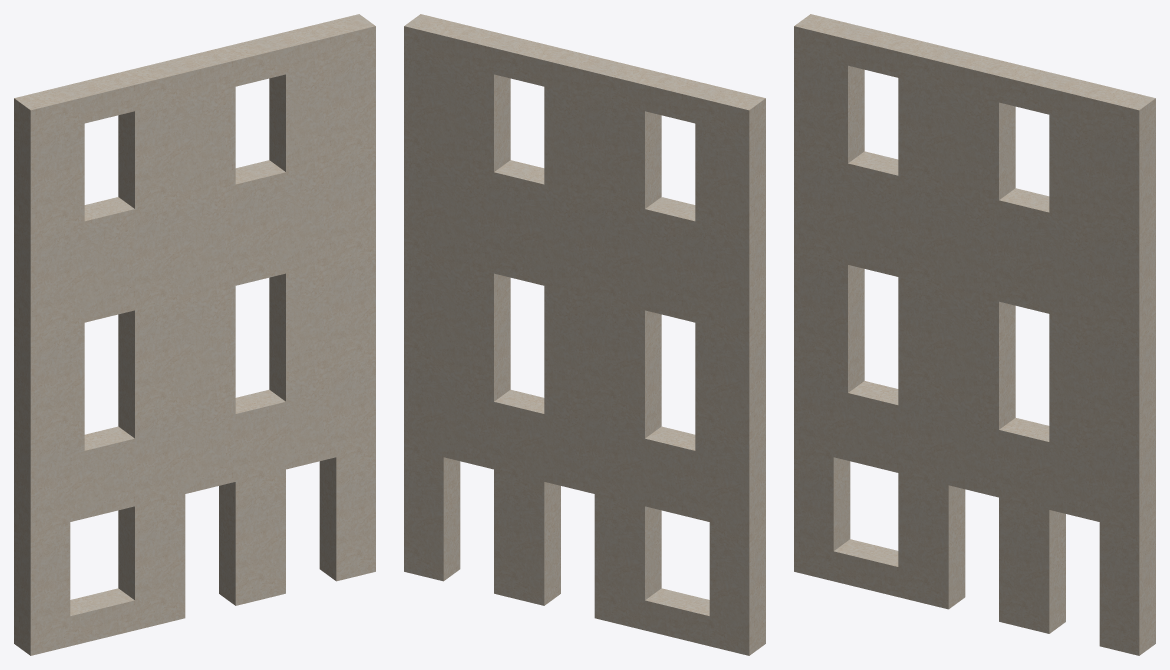
Rendered from GJ_Wall_01.fbx.
The picture shows the model from 3 angles, left to right: view 1: azimuth 30°, elevation 25°; view 2: azimuth 150°, elevation 25°; view 3: azimuth 330°, elevation 25°; orthographic projection.
Visible parts, largest first — view 1: GJ_Wall_01; view 2: GJ_Wall_01; view 3: GJ_Wall_01.
Part boxes in pixels (left/top/right/bottom): GJ_Wall_01: left=14, top=14, right=375, bottom=655; GJ_Wall_01: left=404, top=14, right=765, bottom=655; GJ_Wall_01: left=794, top=14, right=1155, bottom=655.
Size of the model in its own units: 600 by 906 by 50.
